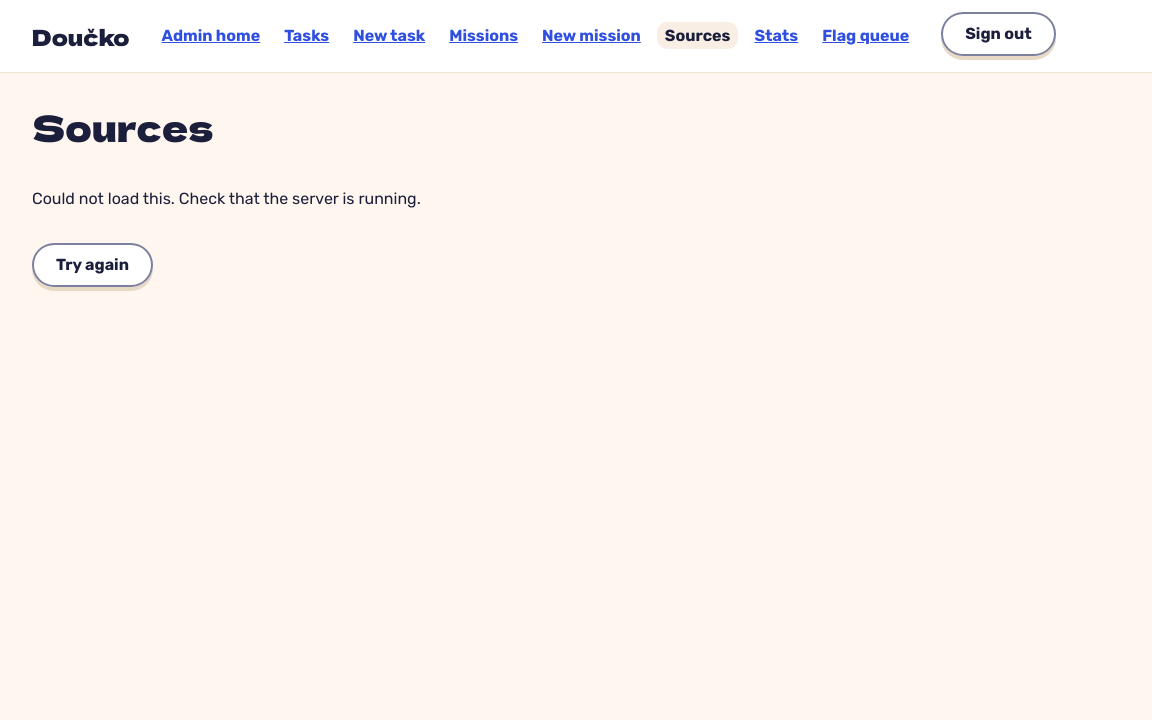
Test: source list (FR-1) › offers a retry when the list cannot be loaded
Expected: the text "Could not load this. Check that the server is running." is shown, [32,187,480,211]
What coordinates should you click on to do the following:
click the button "Try again"
I would click on:
 (92, 265)
Its box is [32,243,153,287].
(page scrolled)
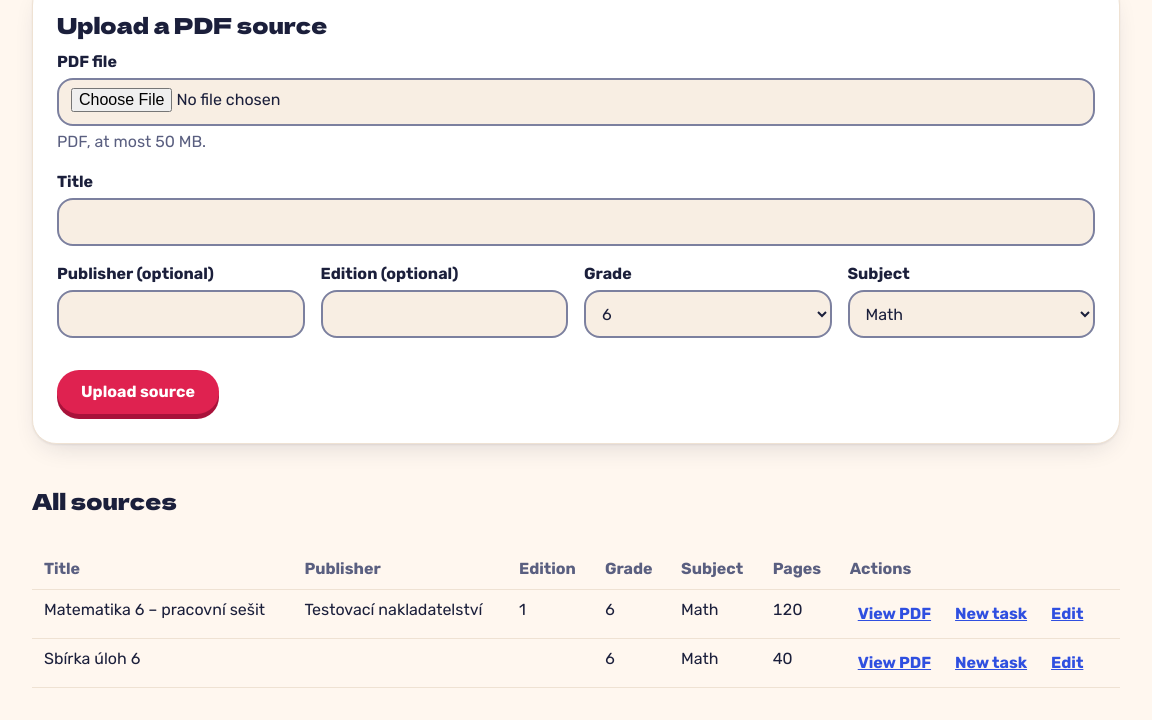
Expected: the text "Sbírka úloh 6" is shown, [32,638,292,687]
